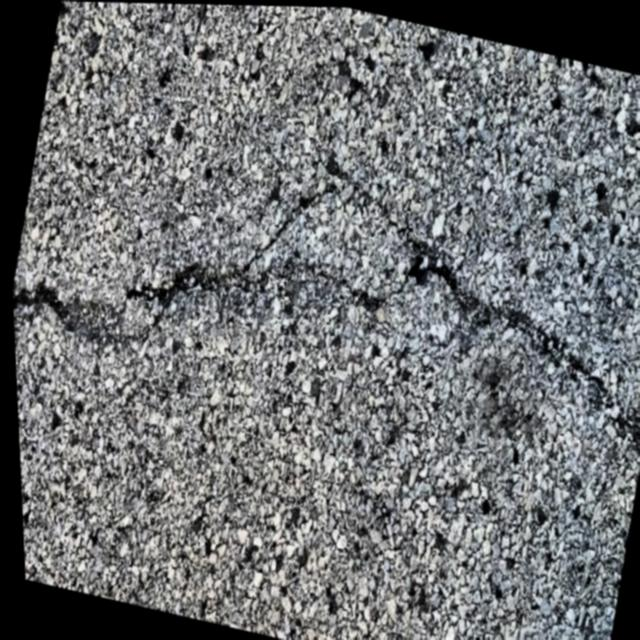Clogged Drains: (10, 259, 640, 447)
